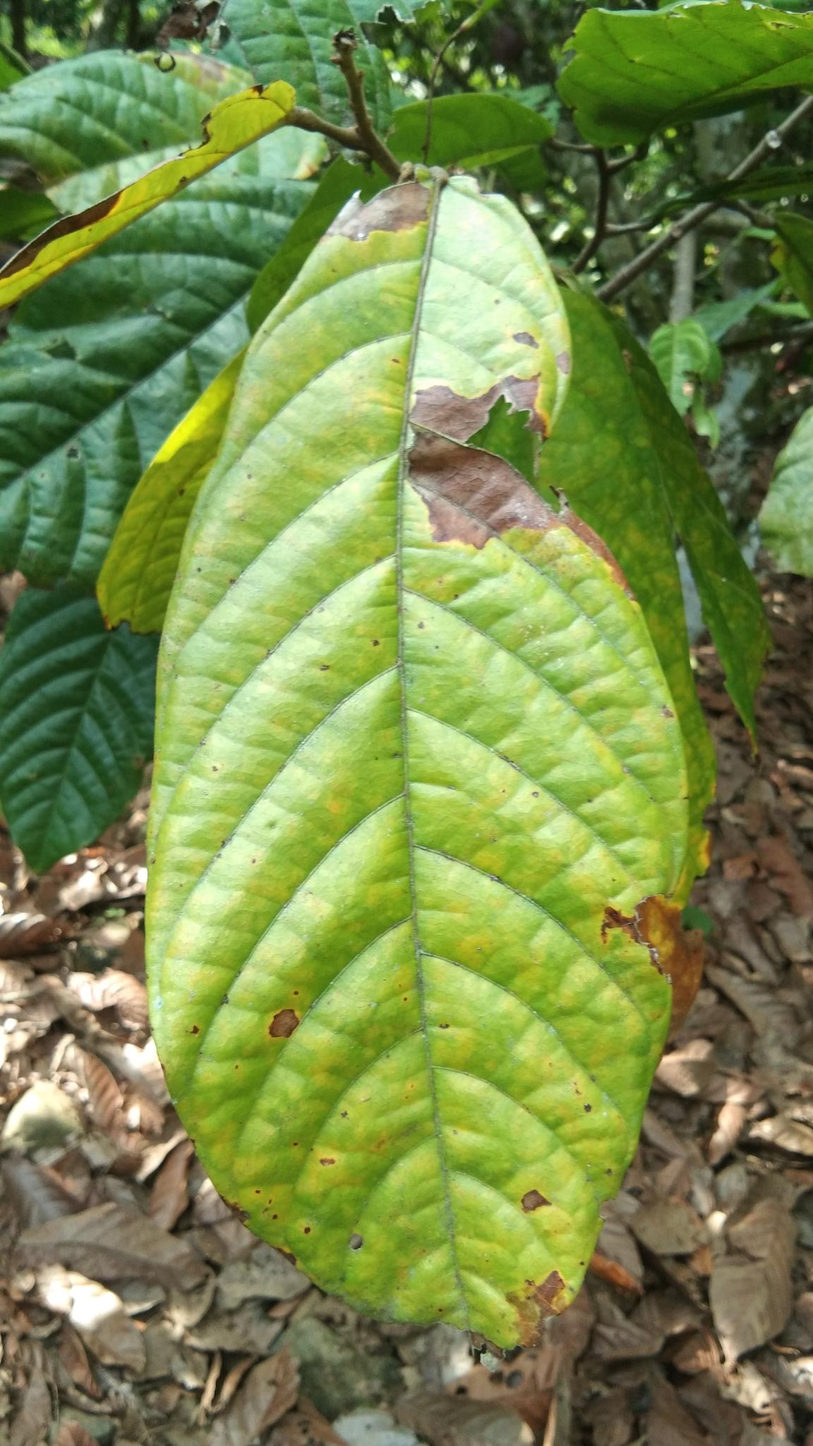Fosforo: (146, 156, 684, 1363)
